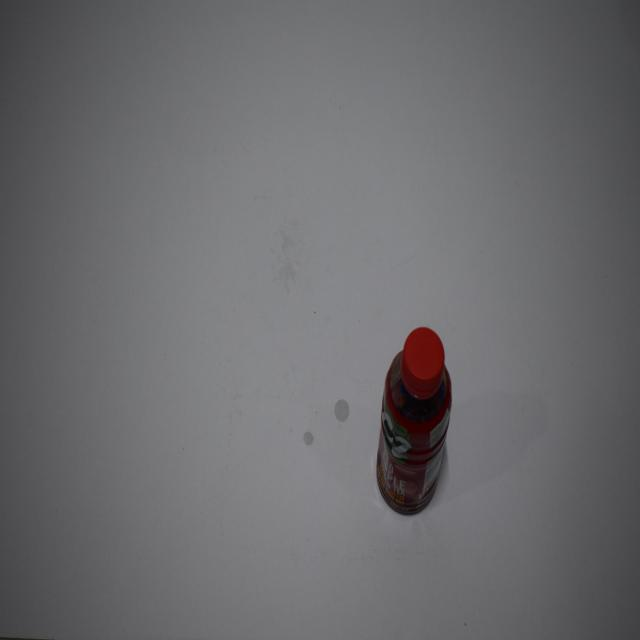bottle: (368, 321, 466, 524)
